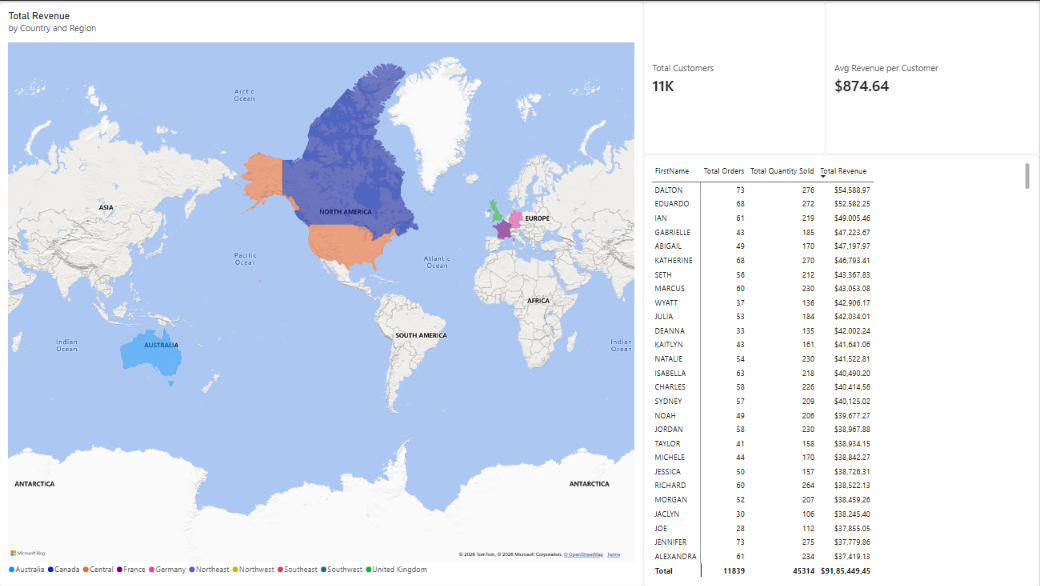

The dashboard page shown, as its layout file describes it:
{"tool":"powerbi","page":{"name":"Customer & Regional Insights","canvas":[1920,1080],"ordinal":2},"visuals":[{"type":"filledMap","fields":{"Category":["Territories.Country"],"Series":["Territories.Region"]},"box":[0,0,1188.9,1080],"z":0},{"type":"pivotTable","fields":{"Rows":["Customers.FirstName"],"Values":["_Measures.Total Orders","_Measures.Total Quantity Sold","_Measures.Total Revenue"]},"box":[1188.9,282.5,731.1,797.5],"z":1000},{"type":"cardVisual","fields":{"Data":["_Measures.Total Customers"]},"box":[1188.9,0,336,282.5],"z":2000},{"type":"cardVisual","fields":{"Data":["_Measures.Avg Revenue per Customer"]},"box":[1524.9,0,395,282],"z":3000}]}

Visuals, with their boxes in screenshot pixels (x1, y1, x2, y2), scaled from the page's 1920x1080 canvas onto the 1040x586 screenshot:
filledMap - Territories.Country x Territories.Region: bbox=[0, 0, 644, 585]
pivotTable - Customers.FirstName x _Measures.Total Orders: bbox=[644, 153, 1039, 585]
cardVisual - _Measures.Total Customers: bbox=[644, 0, 826, 153]
cardVisual - _Measures.Avg Revenue per Customer: bbox=[826, 0, 1039, 153]
